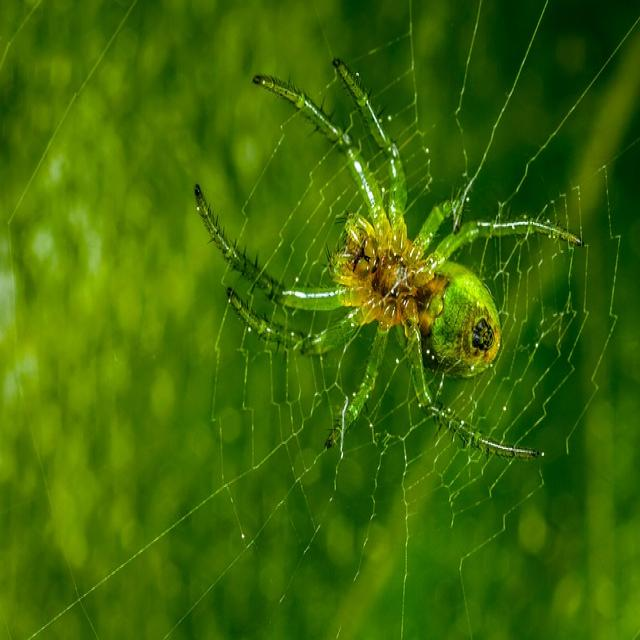spyder: (196, 62, 581, 458)
